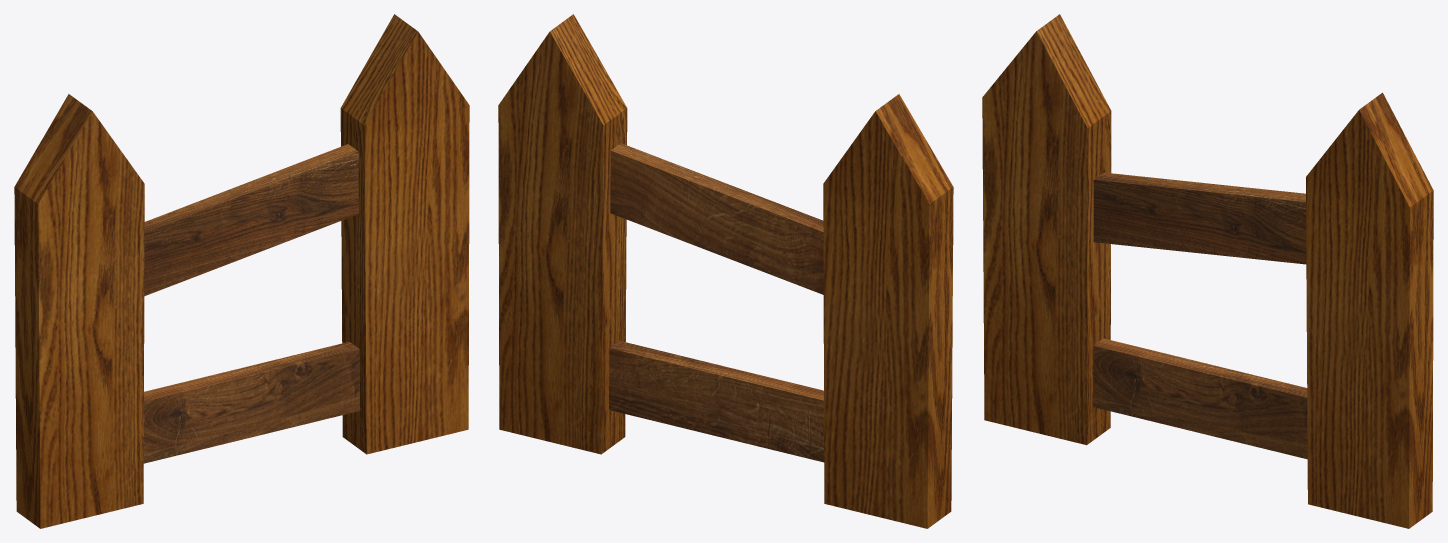
The picture shows the model from 3 angles, left to right: view 1: azimuth 30°, elevation 25°; view 2: azimuth 150°, elevation 25°; view 3: azimuth 330°, elevation 25°; orthographic projection.
Parts seen in each view (by area): view 1: Line002, Line001, Box001, Box002; view 2: Line002, Line001, Box001, Box002; view 3: Line001, Line002, Box002, Box001.
Part boxes in pixels (bbox=[...]): Line002: bbox=[14, 94, 144, 528]; Line001: bbox=[340, 14, 469, 454]; Box001: bbox=[144, 144, 358, 296]; Box002: bbox=[143, 341, 360, 463]; Line002: bbox=[823, 94, 953, 528]; Line001: bbox=[498, 14, 627, 454]; Box001: bbox=[610, 143, 823, 294]; Box002: bbox=[609, 341, 824, 462]; Line001: bbox=[1306, 92, 1433, 528]; Line002: bbox=[982, 14, 1111, 445]; Box002: bbox=[1093, 338, 1307, 459]; Box001: bbox=[1093, 172, 1306, 264].
Bounding box in the file's own units: 72.95 × 66.36 × 7.
1 material, 1 textured.
